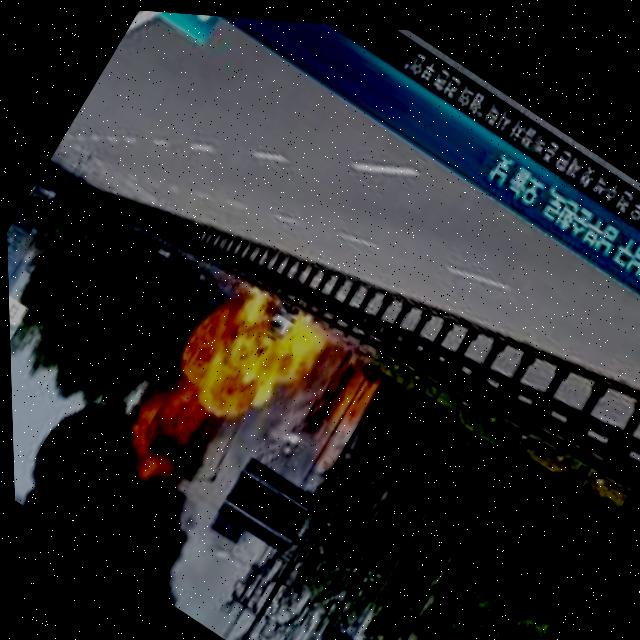Fire: (179, 281, 295, 424), (257, 309, 325, 396), (331, 360, 383, 425)
